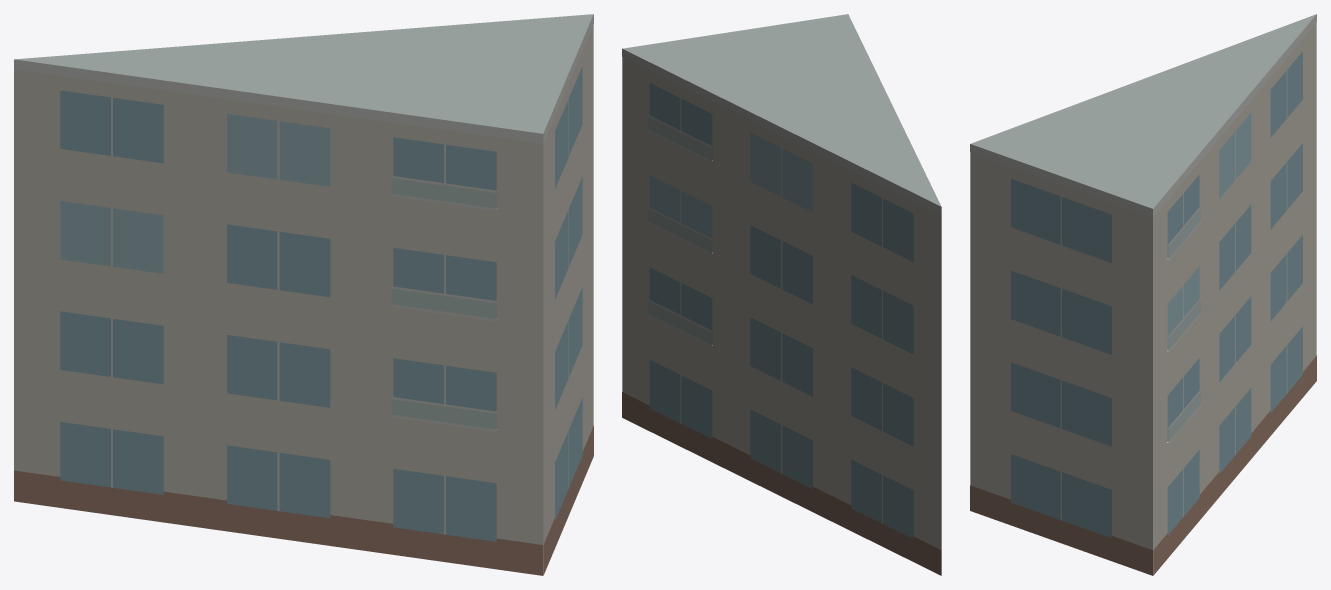
Rendered from survey-upis-32910390.glb.
3 renders of one model, left to right at view 1: azimuth 30°, elevation 25°; view 2: azimuth 150°, elevation 25°; view 3: azimuth 270°, elevation 25°, orthographic. The views are drawn at different scales.
Visible parts, largest first — view 1: survey-upis-32910390.tmp; view 2: survey-upis-32910390.tmp; view 3: survey-upis-32910390.tmp.
Boxes of the visible parts, x1=… form: survey-upis-32910390.tmp: x1=14, y1=14, x2=593, y2=575; survey-upis-32910390.tmp: x1=622, y1=14, x2=941, y2=575; survey-upis-32910390.tmp: x1=970, y1=14, x2=1316, y2=575.
Size of the model in its own units: 12.43 by 10.9 by 9.34.
